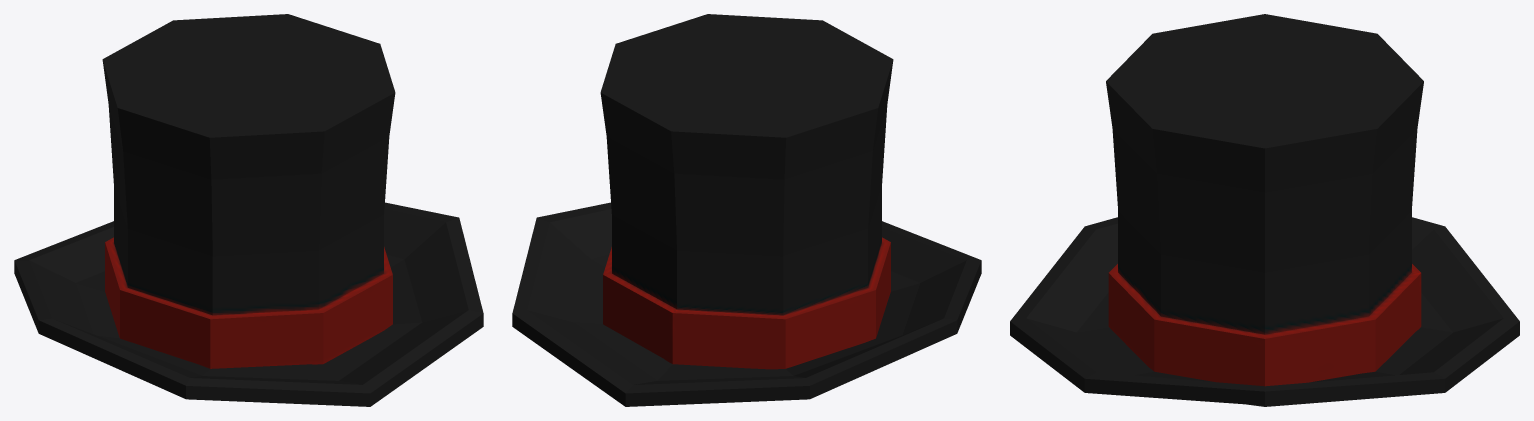
File: sapka 1.fbx
3 views of the same model, side by side, from view 1: azimuth 30°, elevation 25°; view 2: azimuth 150°, elevation 25°; view 3: azimuth 270°, elevation 25° (orthographic). The views are drawn at different scales.
Visible parts, largest first — view 1: sapka; view 2: sapka; view 3: sapka.
Part boxes in pixels (x1,y1,x2,y2): sapka: [14, 14, 483, 406]; sapka: [512, 14, 981, 406]; sapka: [1010, 14, 1519, 406].
Size of the model in its own units: 147 by 84.16 by 147.
